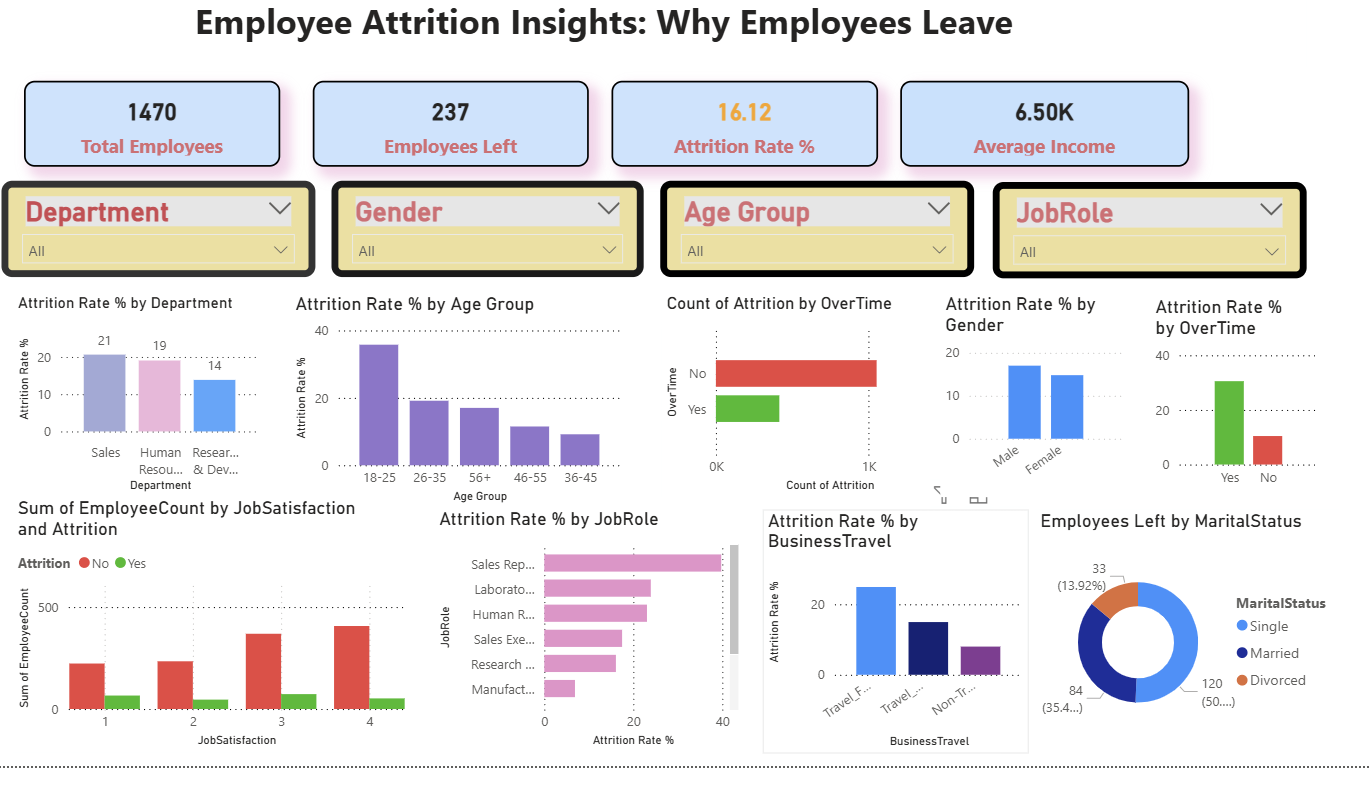

What the dashboard file says about the page in this screenshot:
{"tool":"powerbi","page":{"name":"Page 1","canvas":[1280,720],"ordinal":0},"visuals":[{"type":"card","fields":{"Values":["WA_Fn-UseC_-HR-Employee-Attrition.Total Employees"]},"box":[27.9,82.6,238.4,80.2],"z":0},{"type":"card","fields":{"Values":["WA_Fn-UseC_-HR-Employee-Attrition.Employees Left"]},"box":[296.5,82.6,257,80.2],"z":1000},{"type":"card","fields":{"Values":["WA_Fn-UseC_-HR-Employee-Attrition.Attrition Rate %"]},"box":[574.4,82.6,247.7,80.2],"z":2000},{"type":"slicer","fields":{"Values":["WA_Fn-UseC_-HR-Employee-Attrition.Department"]},"box":[7,175.6,291.9,89.5],"z":3000},{"type":"card","fields":{"Values":["WA_Fn-UseC_-HR-Employee-Attrition.Average Income"]},"box":[843,82.6,268.6,80.2],"z":4000},{"type":"slicer","fields":{"Values":["WA_Fn-UseC_-HR-Employee-Attrition.Gender"]},"box":[314,175.6,290.7,89.5],"z":5000},{"type":"slicer","fields":{"Values":["WA_Fn-UseC_-HR-Employee-Attrition.Age Group"]},"box":[619.8,175.6,291.9,89.5],"z":6000},{"type":"slicer","fields":{"Values":["WA_Fn-UseC_-HR-Employee-Attrition.JobRole"]},"box":[929.1,176.7,291.9,89.5],"z":7000},{"type":"clusteredColumnChart","fields":{"Category":["WA_Fn-UseC_-HR-Employee-Attrition.Department"],"Y":["WA_Fn-UseC_-HR-Employee-Attrition.Attrition Rate %"]},"box":[17.4,280.2,234.9,189.5],"z":8000},{"type":"clusteredColumnChart","fields":{"Category":["WA_Fn-UseC_-HR-Employee-Attrition.Age Group"],"Y":["WA_Fn-UseC_-HR-Employee-Attrition.Attrition Rate %"]},"box":[275.6,280.2,312.8,200],"z":9000},{"type":"clusteredBarChart","fields":{"Category":["WA_Fn-UseC_-HR-Employee-Attrition.OverTime"],"Y":["CountNonNull(WA_Fn-UseC_-HR-Employee-Attrition.Attrition)"]},"box":[620.9,280.2,275.6,189.5],"z":10000},{"type":"clusteredColumnChart","fields":{"Category":["WA_Fn-UseC_-HR-Employee-Attrition.JobSatisfaction"],"Y":["Sum(WA_Fn-UseC_-HR-Employee-Attrition.EmployeeCount)"],"Series":["WA_Fn-UseC_-HR-Employee-Attrition.Attrition"]},"box":[17.4,469.8,369.8,237.2],"z":11000},{"type":"clusteredColumnChart","fields":{"Category":["WA_Fn-UseC_-HR-Employee-Attrition.OverTime"],"Y":["WA_Fn-UseC_-HR-Employee-Attrition.Attrition Rate %"]},"box":[1075.6,282.6,161.6,187.2],"z":13000},{"type":"barChart","fields":{"Category":["WA_Fn-UseC_-HR-Employee-Attrition.JobRole"],"Y":["WA_Fn-UseC_-HR-Employee-Attrition.Attrition Rate %"]},"box":[409.3,480.2,288.4,226.7],"z":14000},{"type":"clusteredColumnChart","fields":{"Category":["WA_Fn-UseC_-HR-Employee-Attrition.BusinessTravel"],"Y":["WA_Fn-UseC_-HR-Employee-Attrition.Attrition Rate %"]},"box":[715.1,481.4,247.7,226.7],"z":15000},{"type":"clusteredColumnChart","fields":{"Category":["WA_Fn-UseC_-HR-Employee-Attrition.Gender"],"Y":["WA_Fn-UseC_-HR-Employee-Attrition.Attrition Rate %"]},"box":[880.2,280.2,175.6,189.5],"z":16001},{"type":"donutChart","fields":{"Category":["WA_Fn-UseC_-HR-Employee-Attrition.MaritalStatus"],"Y":["WA_Fn-UseC_-HR-Employee-Attrition.Employees Left"]},"box":[968.6,481.4,282.6,226.7],"z":16002},{"type":"textbox","box":[84.9,0,1136,69.8],"z":16003}]}

Visuals, with their boxes in screenshot pixels (x1, y1, x2, y2), scaled from the page's 1280x720 canvas onto the 1370x785 screenshot:
card - WA_Fn-UseC_-HR-Employee-Attrition.Total Employees: (30, 90, 285, 177)
card - WA_Fn-UseC_-HR-Employee-Attrition.Employees Left: (317, 90, 592, 177)
card - WA_Fn-UseC_-HR-Employee-Attrition.Attrition Rate %: (615, 90, 880, 177)
slicer - WA_Fn-UseC_-HR-Employee-Attrition.Department: (7, 191, 320, 289)
card - WA_Fn-UseC_-HR-Employee-Attrition.Average Income: (902, 90, 1190, 177)
slicer - WA_Fn-UseC_-HR-Employee-Attrition.Gender: (336, 191, 647, 289)
slicer - WA_Fn-UseC_-HR-Employee-Attrition.Age Group: (663, 191, 976, 289)
slicer - WA_Fn-UseC_-HR-Employee-Attrition.JobRole: (994, 193, 1307, 290)
clusteredColumnChart - WA_Fn-UseC_-HR-Employee-Attrition.Department x WA_Fn-UseC_-HR-Employee-Attrition.Attrition Rate %: (19, 305, 270, 512)
clusteredColumnChart - WA_Fn-UseC_-HR-Employee-Attrition.Age Group x WA_Fn-UseC_-HR-Employee-Attrition.Attrition Rate %: (295, 305, 630, 524)
clusteredBarChart - WA_Fn-UseC_-HR-Employee-Attrition.OverTime x CountNonNull(WA_Fn-UseC_-HR-Employee-Attrition.Attrition): (665, 305, 960, 512)
clusteredColumnChart - WA_Fn-UseC_-HR-Employee-Attrition.JobSatisfaction x Sum(WA_Fn-UseC_-HR-Employee-Attrition.EmployeeCount): (19, 512, 414, 771)
clusteredColumnChart - WA_Fn-UseC_-HR-Employee-Attrition.OverTime x WA_Fn-UseC_-HR-Employee-Attrition.Attrition Rate %: (1151, 308, 1324, 512)
barChart - WA_Fn-UseC_-HR-Employee-Attrition.JobRole x WA_Fn-UseC_-HR-Employee-Attrition.Attrition Rate %: (438, 524, 747, 771)
clusteredColumnChart - WA_Fn-UseC_-HR-Employee-Attrition.BusinessTravel x WA_Fn-UseC_-HR-Employee-Attrition.Attrition Rate %: (765, 525, 1030, 772)
clusteredColumnChart - WA_Fn-UseC_-HR-Employee-Attrition.Gender x WA_Fn-UseC_-HR-Employee-Attrition.Attrition Rate %: (942, 305, 1130, 512)
donutChart - WA_Fn-UseC_-HR-Employee-Attrition.MaritalStatus x WA_Fn-UseC_-HR-Employee-Attrition.Employees Left: (1037, 525, 1339, 772)
textbox: (91, 0, 1307, 76)
